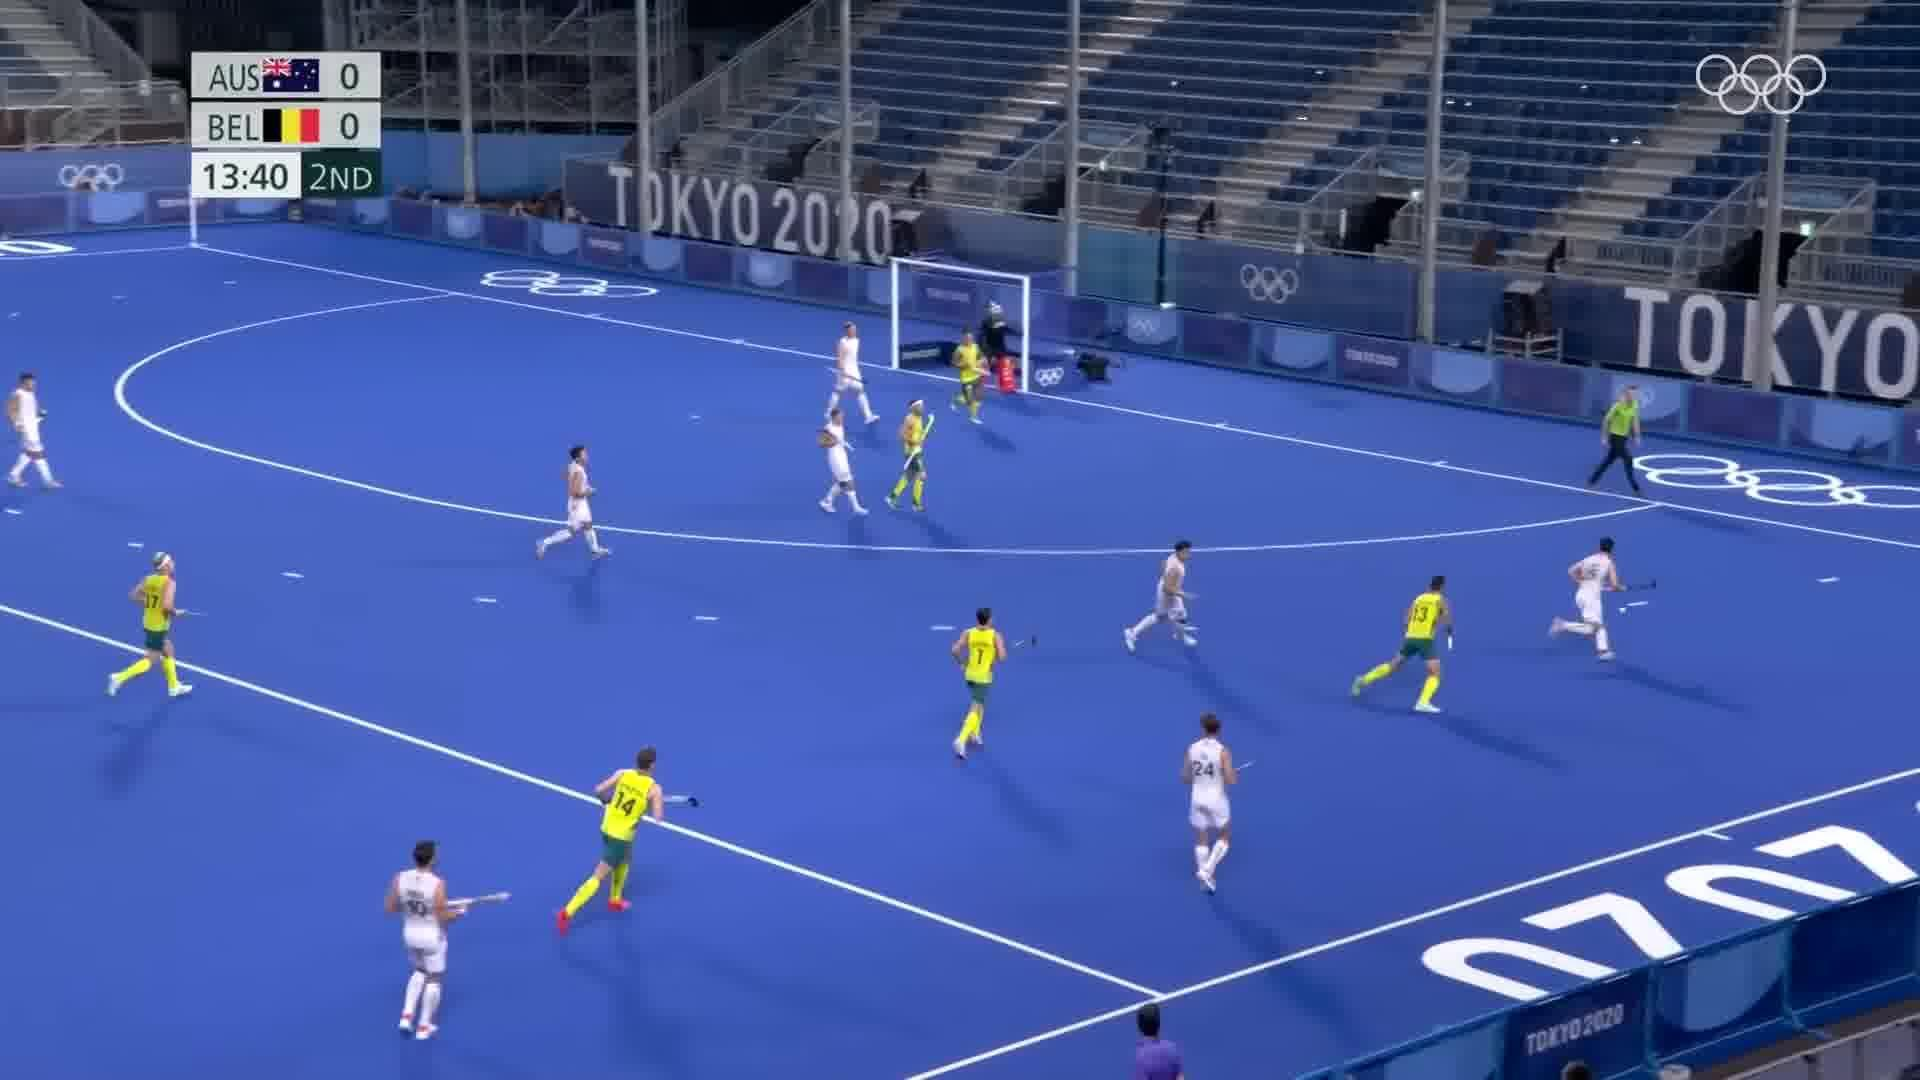ball: (1615, 597, 1635, 621)
